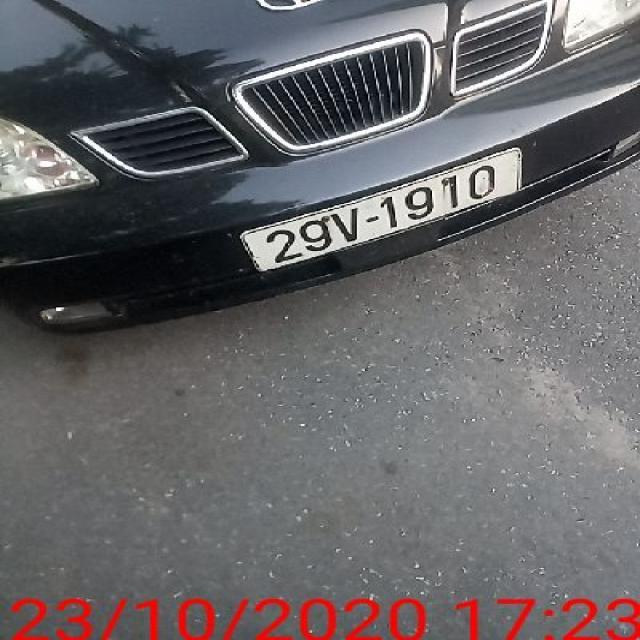bien_so_oto: (242, 148, 527, 274)
